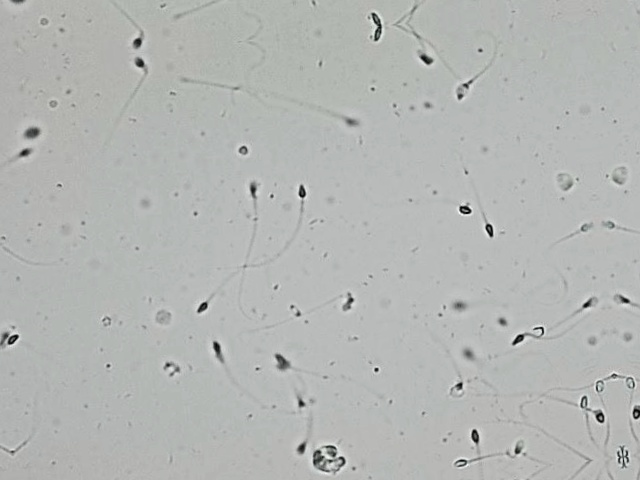sperm: (164, 287, 256, 377), (216, 306, 328, 376), (200, 108, 248, 252), (486, 178, 562, 266), (202, 139, 276, 225), (174, 268, 296, 314), (420, 0, 476, 65), (261, 73, 327, 113), (405, 296, 445, 362), (165, 244, 218, 292), (525, 374, 579, 410), (524, 278, 576, 312), (564, 361, 592, 424), (584, 344, 604, 414), (278, 384, 304, 432), (112, 32, 138, 78), (465, 166, 485, 216), (424, 442, 478, 460), (400, 7, 422, 47), (490, 314, 528, 336), (0, 130, 18, 162), (493, 428, 515, 448), (451, 336, 473, 356), (8, 115, 32, 133), (462, 412, 476, 442), (286, 376, 300, 398), (439, 294, 465, 304), (449, 195, 465, 209), (0, 322, 11, 342), (364, 16, 376, 34)
